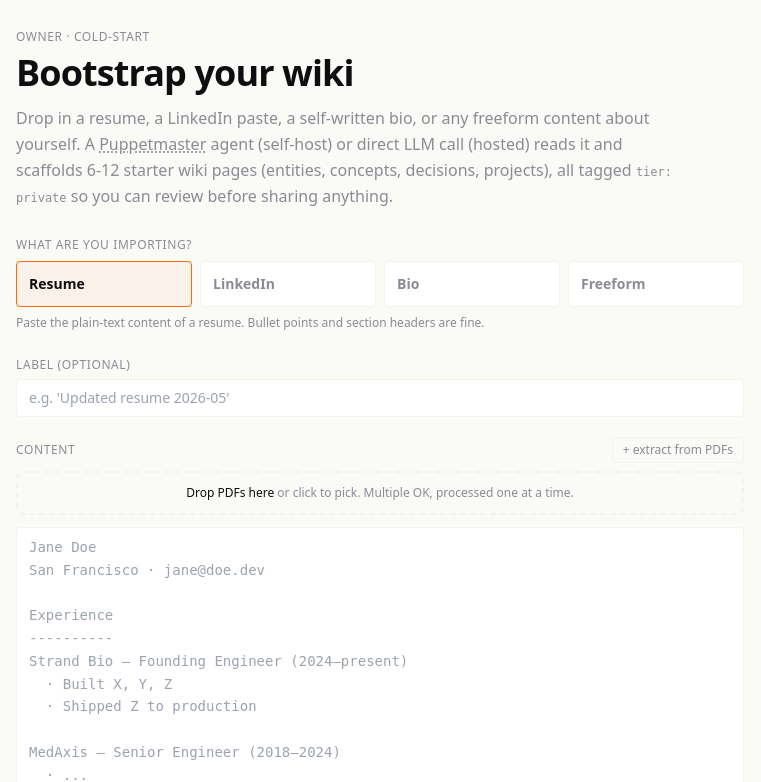
Test case: ImportWizard › updates the textarea placeholder when a different kind is selected
Click the button "Bio".
click(472, 284)  # box x1=384 y1=261 x2=560 y2=307
(page scrolled)
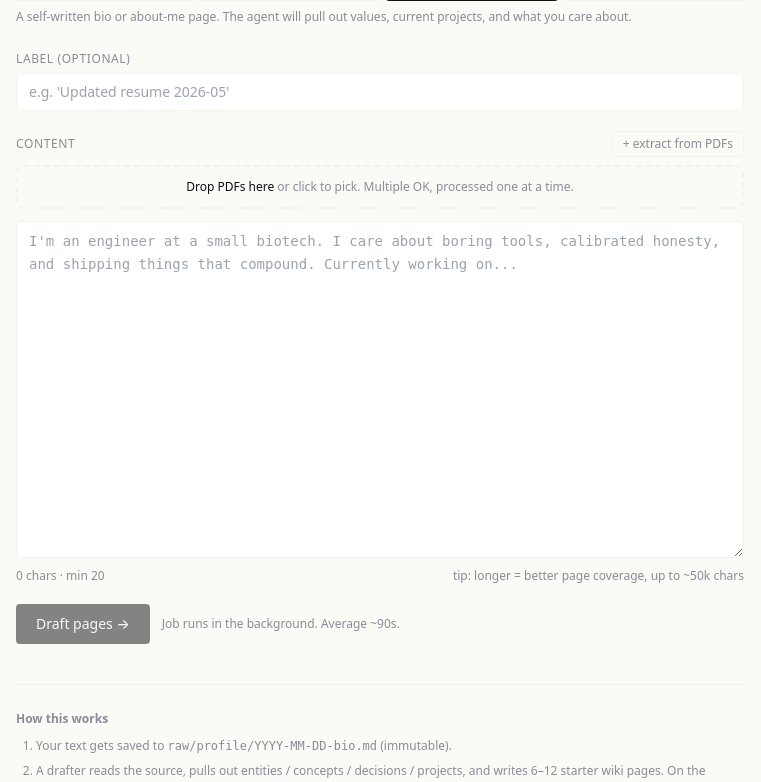
Expected: the field with placeholder "Jane Doe" is not shown
Expected: the text box with placeholder "engineer at a small biotech" is shown, x1=16 y1=221 x2=744 y2=558
